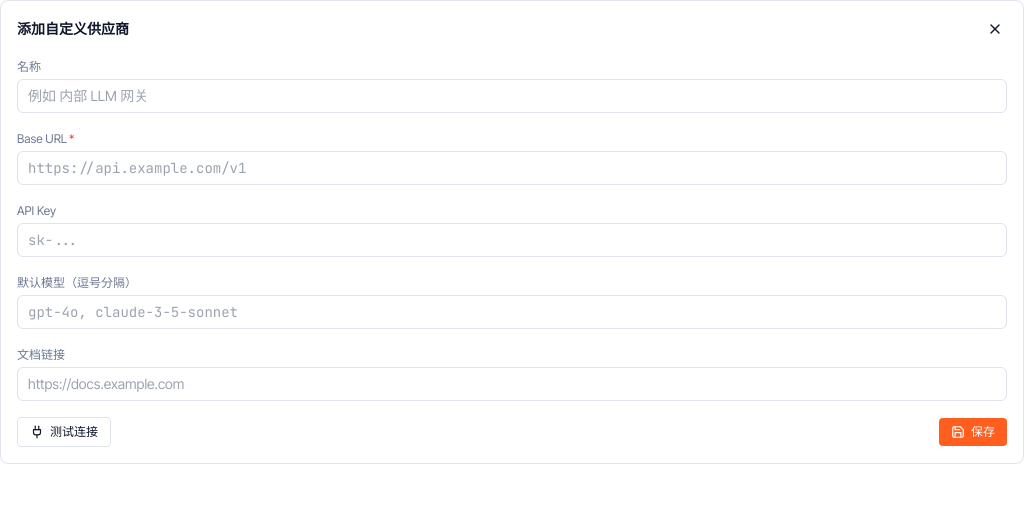
CustomProviderForm › surfaces a failed test
This screenshot has width=1024, height=523.
In the field with placeholder "https://api.example.com/v1": (512, 168) [17,151,1007,185], type "https://x.test"
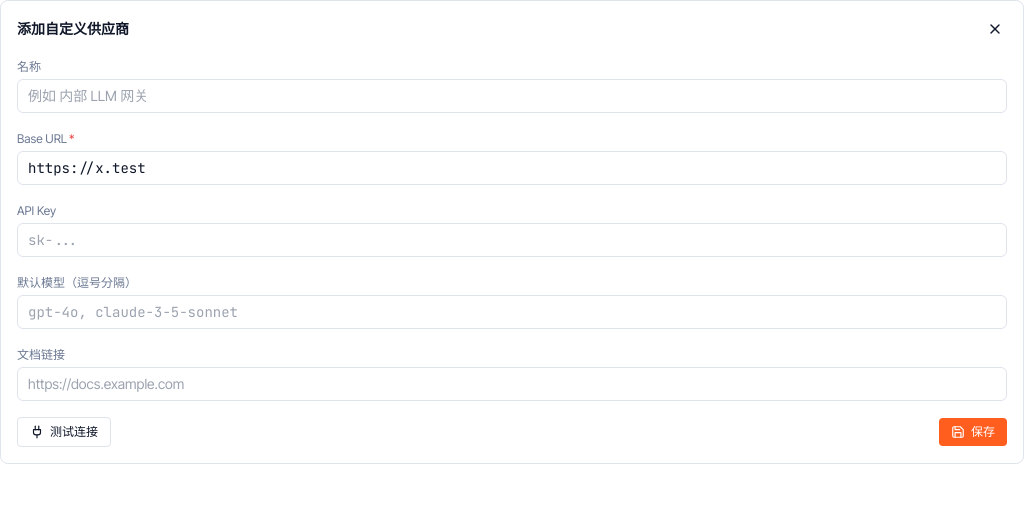
Click the button "测试连接": (64, 432) [17,417,111,447]
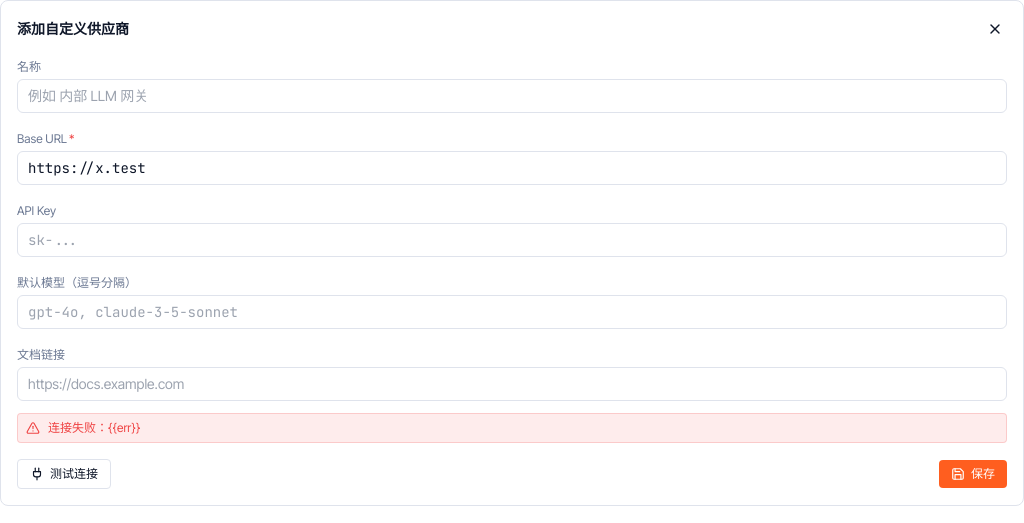
Now the text "连接失败：{{err}}" is shown, box [17,413,1007,443]
